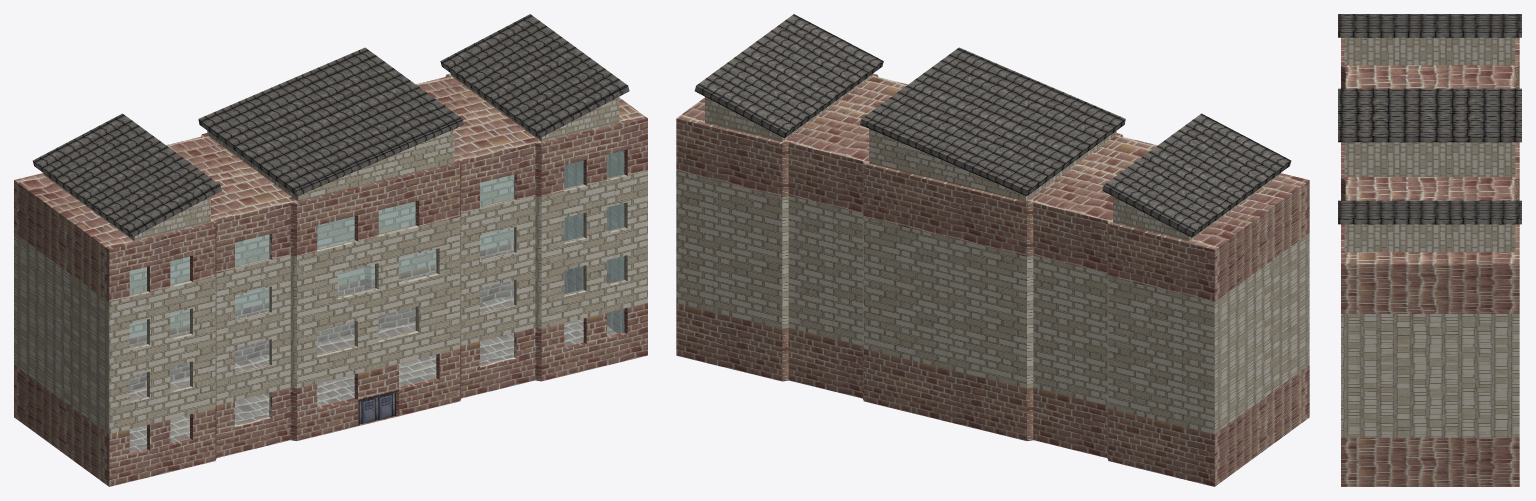
Rendered from Apartments TEXTURED.FBX.
The picture shows the model from 3 angles, left to right: view 1: azimuth 30°, elevation 25°; view 2: azimuth 150°, elevation 25°; view 3: azimuth 270°, elevation 25°; orthographic projection. The views are drawn at different scales.
Parts seen in each view (by area): view 1: Box001, Box006, Box005, Box007, Box003, Box002, Box004, Object001; view 2: Box001, Box006, Box007, Box005, Box003, Box002, Box004; view 3: Box001, Box006, Box003, Box002, Box004, Box005, Box007.
Part boxes in pixels (<box>): Box001: <box>14,73,647,486</box>; Box006: <box>198,47,463,196</box>; Box005: <box>440,14,629,137</box>; Box007: <box>33,113,221,237</box>; Box003: <box>207,129,454,201</box>; Box002: <box>451,73,619,141</box>; Box004: <box>43,173,210,241</box>; Object001: <box>358,393,395,424</box>; Box001: <box>676,73,1309,486</box>; Box006: <box>860,47,1125,195</box>; Box007: <box>1102,113,1291,237</box>; Box005: <box>694,14,883,137</box>; Box003: <box>869,129,1116,201</box>; Box002: <box>705,73,873,141</box>; Box004: <box>1113,173,1280,241</box>; Box001: <box>1341,37,1519,486</box>; Box006: <box>1338,88,1521,142</box>; Box003: <box>1344,142,1515,176</box>; Box002: <box>1344,224,1515,252</box>; Box004: <box>1344,37,1515,65</box>; Box005: <box>1338,200,1521,224</box>; Box007: <box>1338,14,1521,37</box>.
Size of the model in its own units: 233 by 117 by 73.37.
5 materials, 4 textured.
